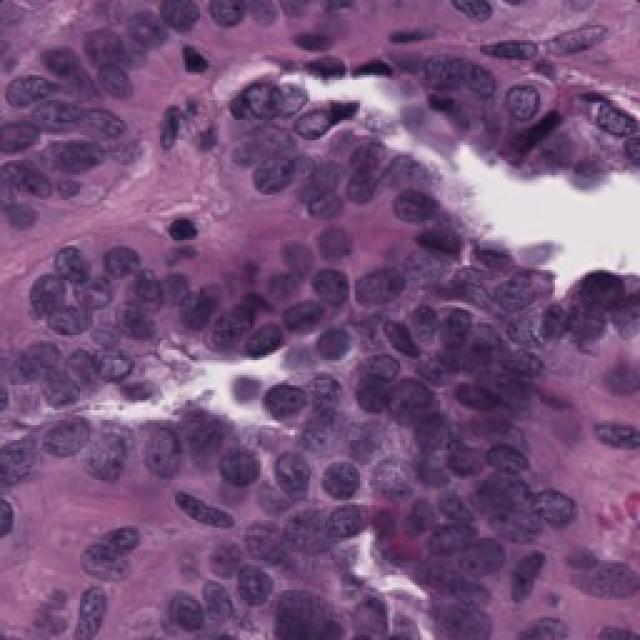abnormal: (308, 443, 380, 525), (146, 576, 235, 640), (257, 366, 327, 446), (132, 410, 200, 492), (233, 140, 312, 210), (15, 75, 92, 143), (258, 280, 334, 348), (207, 434, 273, 509), (516, 476, 592, 541), (488, 71, 555, 141), (35, 393, 95, 470), (215, 67, 288, 128), (386, 367, 442, 440), (377, 180, 448, 230), (73, 102, 145, 148), (234, 560, 278, 615)
